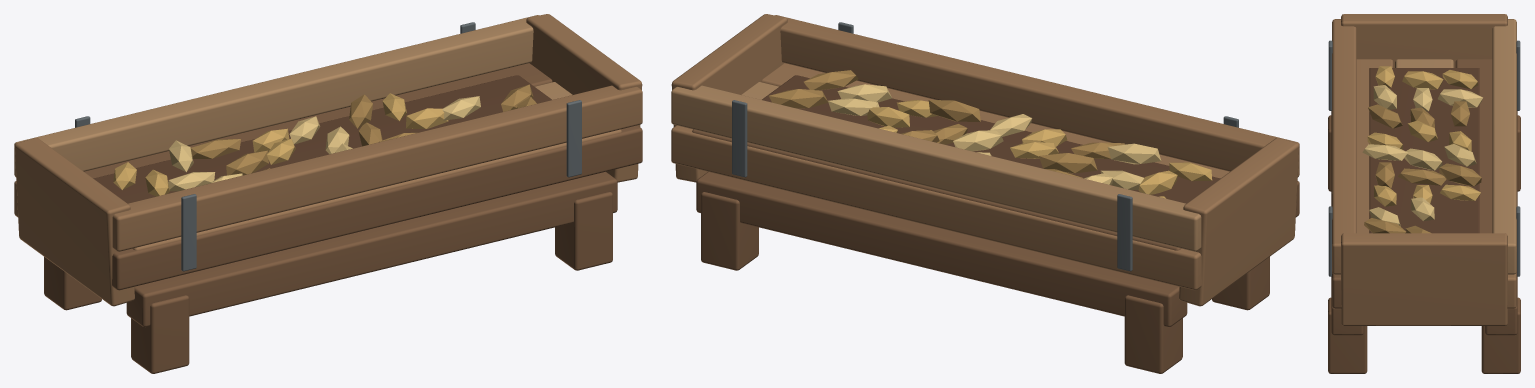
The model's file is cocho.glb.
3 views of the same model, side by side, from view 1: azimuth 30°, elevation 25°; view 2: azimuth 150°, elevation 25°; view 3: azimuth 270°, elevation 25° (orthographic). The views are drawn at different scales.
Visible parts, largest first — view 1: Cocho | Madeira | castanho antigo, Cocho | Madeira | carvalho quente, Cocho | Madeira | tábua clara, Cocho | Madeira | sombra, Cocho | Ração | feno dourado, Cocho | Ração | sombra, Cocho | Ração | grão claro, Cocho | Ferro escurecido | cintas; view 2: Cocho | Madeira | carvalho quente, Cocho | Madeira | castanho antigo, Cocho | Madeira | tábua clara, Cocho | Madeira | sombra, Cocho | Ração | sombra, Cocho | Ração | grão claro, Cocho | Ração | feno dourado, Cocho | Ferro escurecido | cintas; view 3: Cocho | Madeira | carvalho quente, Cocho | Madeira | sombra, Cocho | Madeira | castanho antigo, Cocho | Madeira | tábua clara, Cocho | Ração | grão claro, Cocho | Ração | feno dourado, Cocho | Ração | sombra, Cocho | Ferro escurecido | cintas.
Boxes of the visible parts, x1,y1,x2,y2 form: Cocho | Madeira | castanho antigo: (44, 63, 642, 373); Cocho | Madeira | carvalho quente: (14, 14, 642, 306); Cocho | Madeira | tábua clara: (14, 15, 572, 177); Cocho | Madeira | sombra: (93, 75, 551, 203); Cocho | Ração | feno dourado: (113, 93, 448, 196); Cocho | Ração | sombra: (190, 84, 536, 175); Cocho | Ração | grão claro: (168, 96, 480, 191); Cocho | Ferro escurecido | cintas: (75, 22, 581, 271); Cocho | Madeira | carvalho quente: (671, 14, 1299, 306); Cocho | Madeira | castanho antigo: (692, 129, 1299, 373); Cocho | Madeira | tábua clara: (671, 82, 1201, 251); Cocho | Madeira | sombra: (762, 75, 1220, 203); Cocho | Ração | sombra: (769, 70, 1124, 178); Cocho | Ração | grão claro: (828, 84, 1161, 189); Cocho | Ração | feno dourado: (867, 100, 1212, 198); Cocho | Ferro escurecido | cintas: (732, 22, 1238, 271); Cocho | Madeira | carvalho quente: (1332, 14, 1516, 325); Cocho | Madeira | sombra: (1369, 68, 1479, 233); Cocho | Madeira | castanho antigo: (1328, 59, 1520, 373); Cocho | Madeira | tábua clara: (1395, 19, 1516, 274); Cocho | Ração | grão claro: (1362, 85, 1482, 226); Cocho | Ração | feno dourado: (1367, 66, 1480, 206); Cocho | Ração | sombra: (1364, 101, 1481, 233); Cocho | Ferro escurecido | cintas: (1328, 40, 1520, 276).
Bounding box in the file's own units: 1.67 × 0.505 × 0.59.
